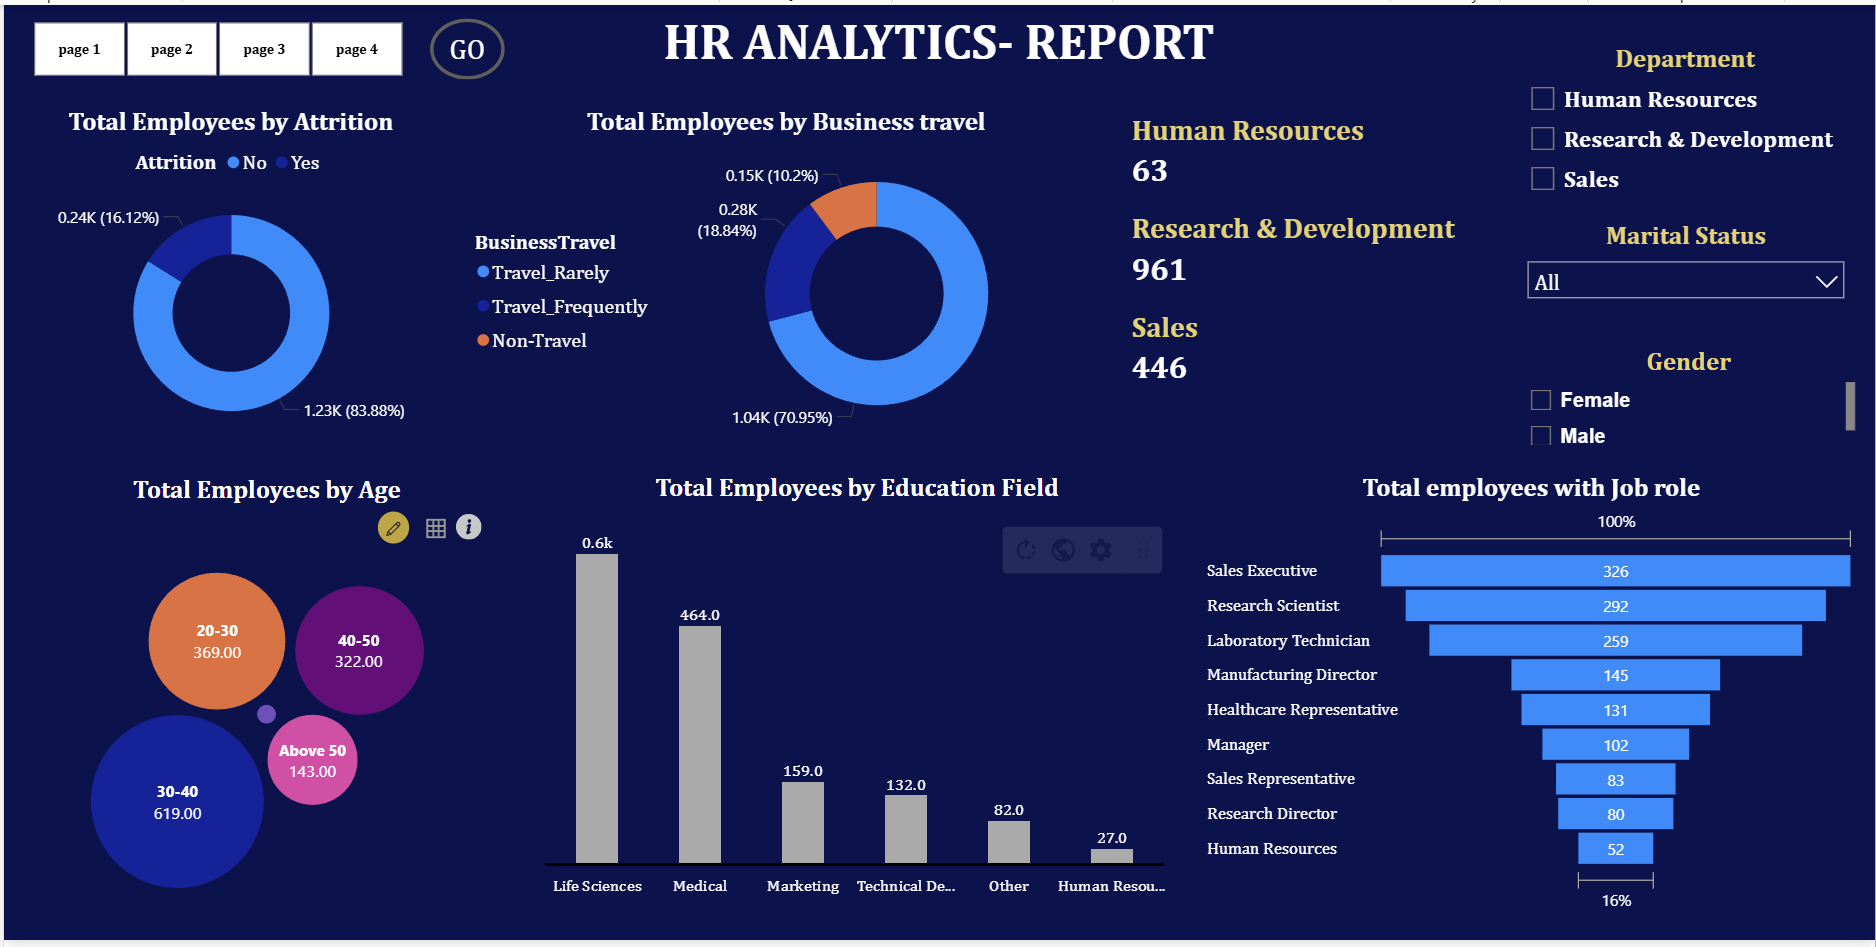

The page's visual inventory and layout, read from the dashboard file:
{"tool":"powerbi","page":{"name":"page 1","canvas":[1600,800],"ordinal":0},"visuals":[{"type":"textbox","box":[493.8,0,611.5,66.8],"z":0},{"type":"slicer","title":"Department","fields":{"Values":["HR Analytics Data.Department"]},"box":[1293.4,33,289.2,145.4],"z":1000},{"type":"donutChart","title":"Total Employees by Attrition","fields":{"Category":["HR Analytics Data.Attrition"],"Y":["CountNonNull(HR Analytics Data.EmployeeNumber)"]},"box":[18,86.9,352.2,293.7],"z":2000},{"type":"slicer","title":"Marital Status","fields":{"Values":["HR Analytics Data.MaritalStatus"]},"box":[1293.4,184.3,290.7,97.4],"z":3000},{"type":"slicer","title":"Gender","fields":{"Values":["HR Analytics Data.Gender"]},"box":[1293.4,292.2,295.2,88.4],"z":4000},{"type":"funnel","title":"Total employees with Job role","fields":{"Category":["HR Analytics Data.JobRole"],"Y":["CountNonNull(HR Analytics Data.EmployeeNumber)"]},"box":[1023.6,400.2,565,379.2],"z":5000},{"type":"multiRowCard","fields":{"Values":["HR Analytics Data.Department","Sum(HR Analytics Data.EmployeeCount)"]},"box":[959.2,86.9,319.2,293.7],"z":6000},{"type":"graphomatecharts","title":"Total Employees by Education Field","fields":{"category":["HR Analytics Data.EducationField"],"measure":["Sum(HR Analytics Data.EmployeeCount)"]},"box":[448.1,400.2,563.5,379.2],"z":7000},{"type":"packedBubble563FBEFA65CC43A48496B6BB533D9890","title":"Total Employees by Age","fields":{"category":["HR Analytics Data.Age category"],"measure":["Sum(HR Analytics Data.EmployeeCount)"]},"box":[18,401.7,413.6,377.7],"z":8000},{"type":"donutChart","title":"Total Employees by Business travel","fields":{"Category":["HR Analytics Data.BusinessTravel"],"Y":["CountNonNull(HR Analytics Data.EmployeeNumber)"]},"box":[397.2,86.9,542.5,293.7],"z":9000},{"type":"slicer","title":"Department","fields":{"Values":["Table.Column1"]},"box":[0,7.3,364.6,59.6],"z":10000},{"type":"actionButton","title":"GO","box":[364.6,11.6,63.9,52.3],"z":11000}]}

Visuals, with their boxes in screenshot pixels (x1, y1, x2, y2), scaled from the page's 1600x800 canvas onto the 1876x947 screenshot:
textbox: crop(579, 0, 1296, 79)
"Department" slicer: crop(1517, 39, 1856, 211)
"Total Employees by Attrition" donutChart: crop(21, 103, 434, 451)
"Marital Status" slicer: crop(1517, 218, 1857, 333)
"Gender" slicer: crop(1517, 346, 1863, 451)
"Total employees with Job role" funnel: crop(1200, 474, 1863, 923)
multiRowCard - HR Analytics Data.Department x Sum(HR Analytics Data.EmployeeCount): crop(1125, 103, 1499, 451)
"Total Employees by Education Field" graphomatecharts: crop(525, 474, 1186, 923)
"Total Employees by Age" packedBubble563FBEFA65CC43A48496B6BB533D9890: crop(21, 476, 506, 923)
"Total Employees by Business travel" donutChart: crop(466, 103, 1102, 451)
"Department" slicer: crop(0, 9, 427, 79)
"GO" actionButton: crop(427, 14, 502, 76)
